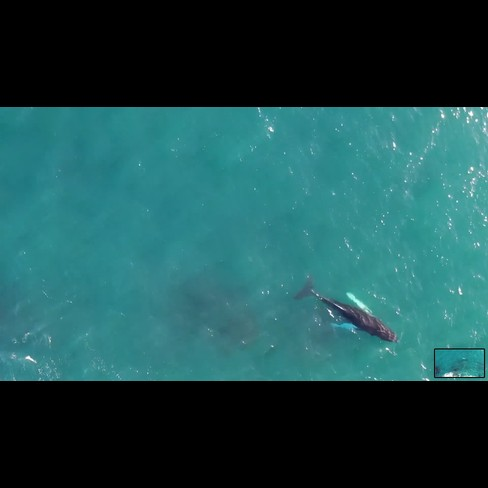hump: (289, 269, 403, 350)
